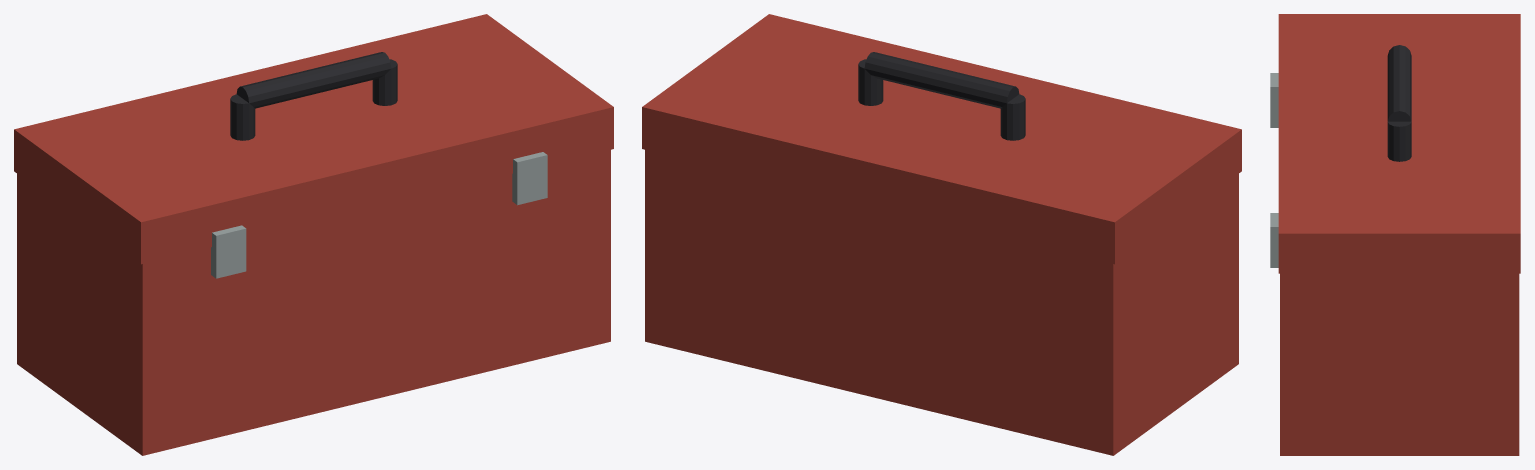
Rendered from PROP_Toolbox.glb.
3 views of the same model, side by side, from view 1: azimuth 30°, elevation 25°; view 2: azimuth 150°, elevation 25°; view 3: azimuth 270°, elevation 25° (orthographic). The views are drawn at different scales.
Visible parts, largest first — view 1: Case, Lid, Handle, Latches; view 2: Case, Lid, Handle; view 3: Lid, Case, Handle, Latches.
Part boxes in pixels (box(x1,y1,x2,y2)): Case: box(17, 150, 610, 455); Lid: box(14, 14, 613, 264); Handle: box(230, 52, 397, 140); Latches: box(211, 152, 547, 278); Case: box(645, 150, 1238, 455); Lid: box(642, 14, 1241, 264); Handle: box(858, 52, 1025, 140); Lid: box(1278, 14, 1520, 273); Case: box(1280, 273, 1519, 455); Handle: box(1387, 45, 1411, 161); Latches: box(1270, 73, 1278, 267).
Size of the model in its own units: 0.565 by 0.323 by 0.272.
